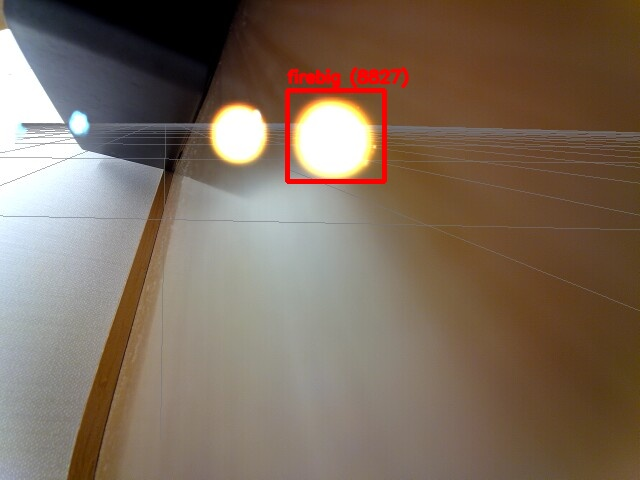firebig: (287, 90, 384, 181)
